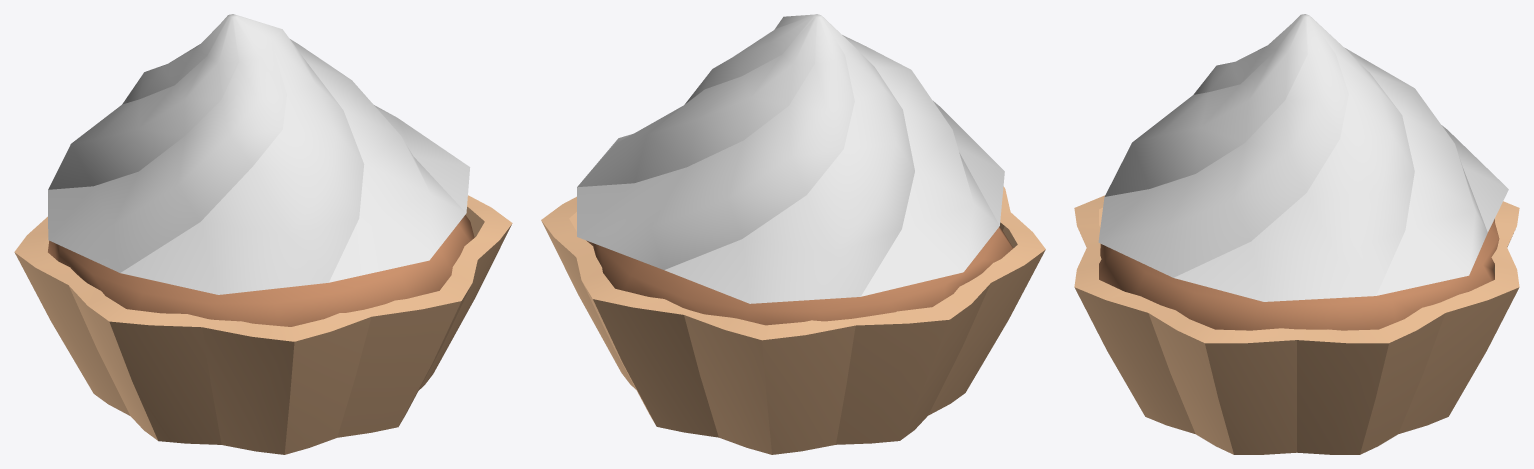
File: SM_Muffin_White.fbx
3 renders of one model, left to right at view 1: azimuth 30°, elevation 25°; view 2: azimuth 150°, elevation 25°; view 3: azimuth 270°, elevation 25°, orthographic. The views are drawn at different scales.
Parts seen in each view (by area): view 1: Cylinder.008, Cylinder.009, Sphere.001; view 2: Cylinder.008, Cylinder.009, Sphere.001; view 3: Cylinder.008, Cylinder.009, Sphere.001.
Part boxes in pixels (box(x1,y1,x2,y2)): Cylinder.008: box(48, 14, 470, 294); Cylinder.009: box(14, 195, 512, 454); Sphere.001: box(48, 215, 474, 326); Cylinder.008: box(577, 14, 1004, 303); Cylinder.009: box(541, 186, 1045, 454); Sphere.001: box(586, 226, 1013, 325); Cylinder.008: box(1098, 14, 1508, 301); Cylinder.009: box(1074, 195, 1519, 454); Sphere.001: box(1099, 220, 1499, 330).
Size of the model in its own units: 21.12 by 18.57 by 20.76.
